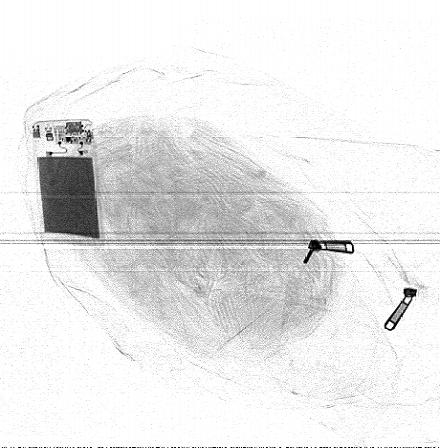Powerbank: (32, 118, 106, 241)
